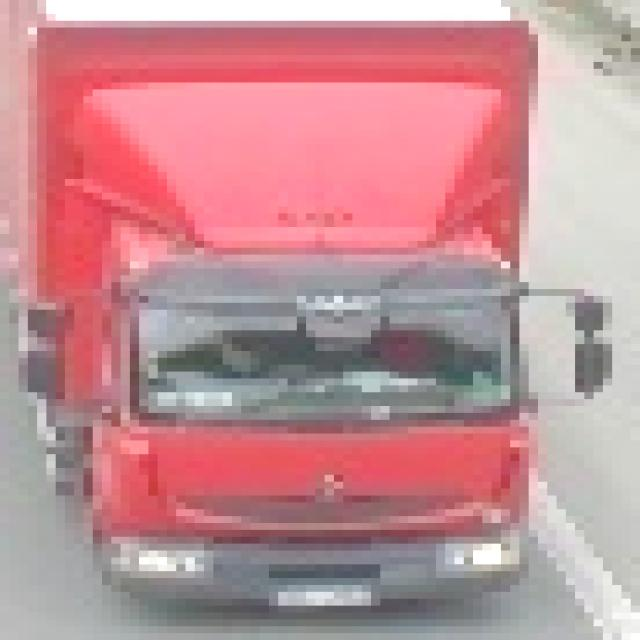truck: (1, 1, 604, 620)
